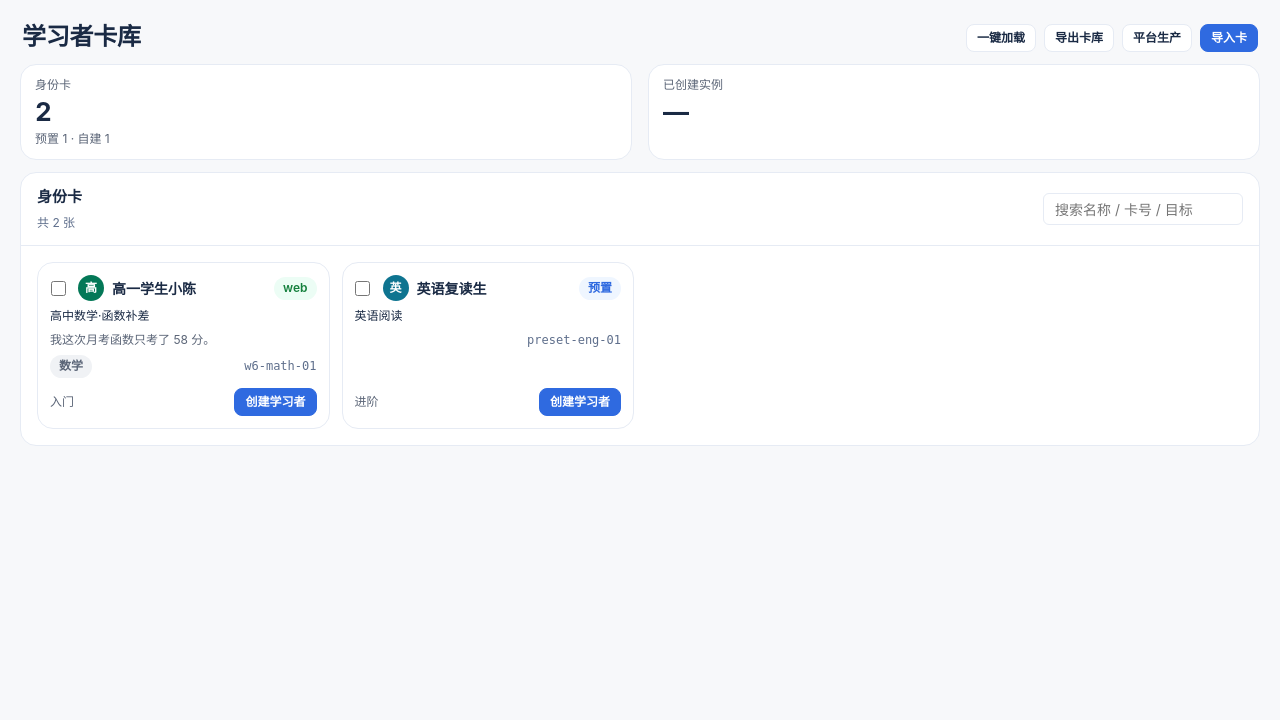
Scenario: 学习者卡库卡墙（2026-10-05 卡库改版 / 2026-10-06 二级页化） › 卡面「创建学习者」：单卡一键进同一创建面板，且不误触进卡详情
The width and height of the screenshot is (1280, 720).
Click the 1st button "创建学习者". click: coordinates (276, 402)
box: [234, 388, 316, 416]
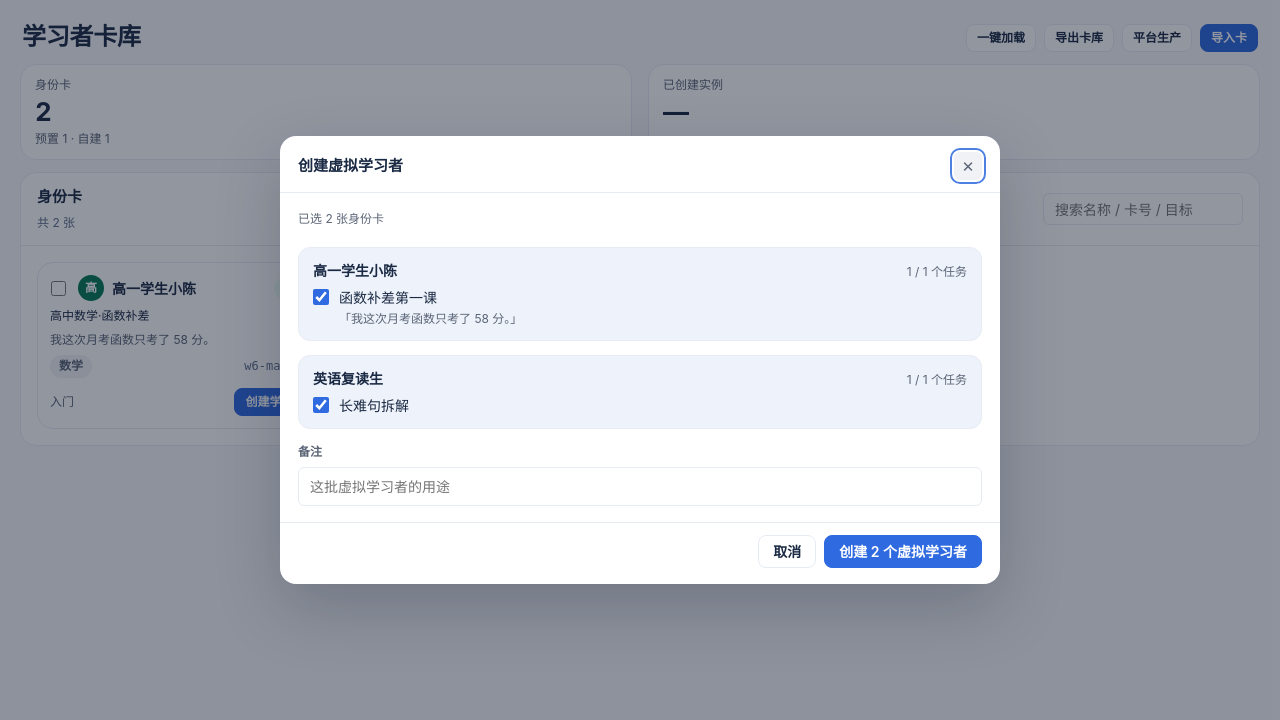
Now the text "函数补差第一课" is shown, box [313, 289, 437, 306]
